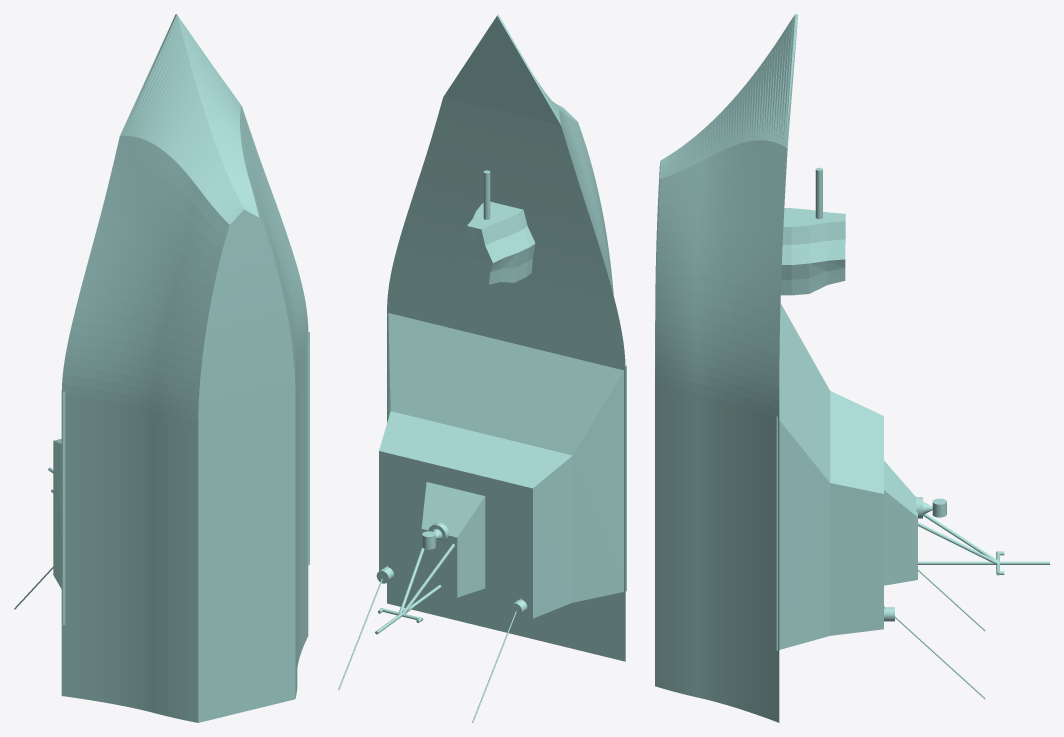
File: senntai.fbx
3 views of the same model, side by side, from view 1: azimuth 30°, elevation 25°; view 2: azimuth 150°, elevation 25°; view 3: azimuth 270°, elevation 25° (orthographic). The views are drawn at different scales.
Parts seen in each view (by area): view 1: 立方体; view 2: 立方体; view 3: 立方体.
Part boxes in pixels (box(x1,y1,x2,y2)): 立方体: box(14, 14, 309, 722); 立方体: box(338, 14, 626, 722); 立方体: box(655, 14, 1049, 722).
Size of the model in its own units: 800 by 2006 by 1103.
